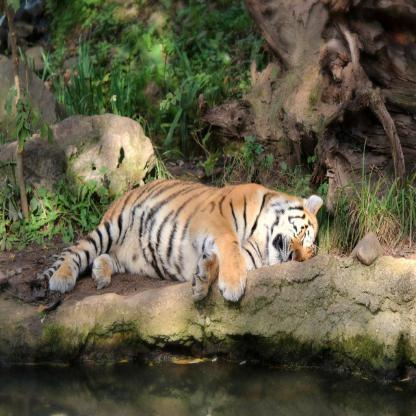Tiger: (30, 175, 324, 303)
